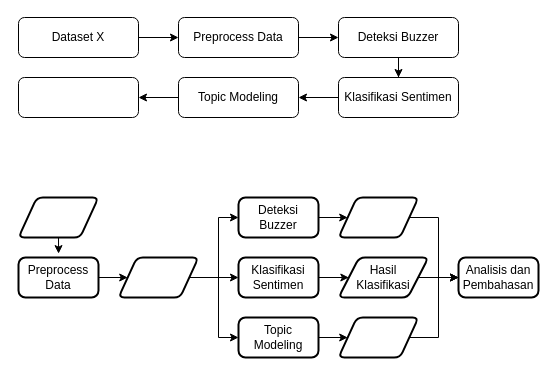
The diagram is 556 pixels wide and 376 high, and some of its shapes have lost their labels. The shapes that lost their labels are listed below. From the top down, each one's centre as x and y in pixels, then its label:
At point (78, 97): "Analisis dan Insights".
At point (58, 217): "Dataset Twit".
At point (378, 217): "Hasil Deteksi".
At point (158, 277): "Data Twit Bersih".
At point (378, 337): "Hasil Topic".
